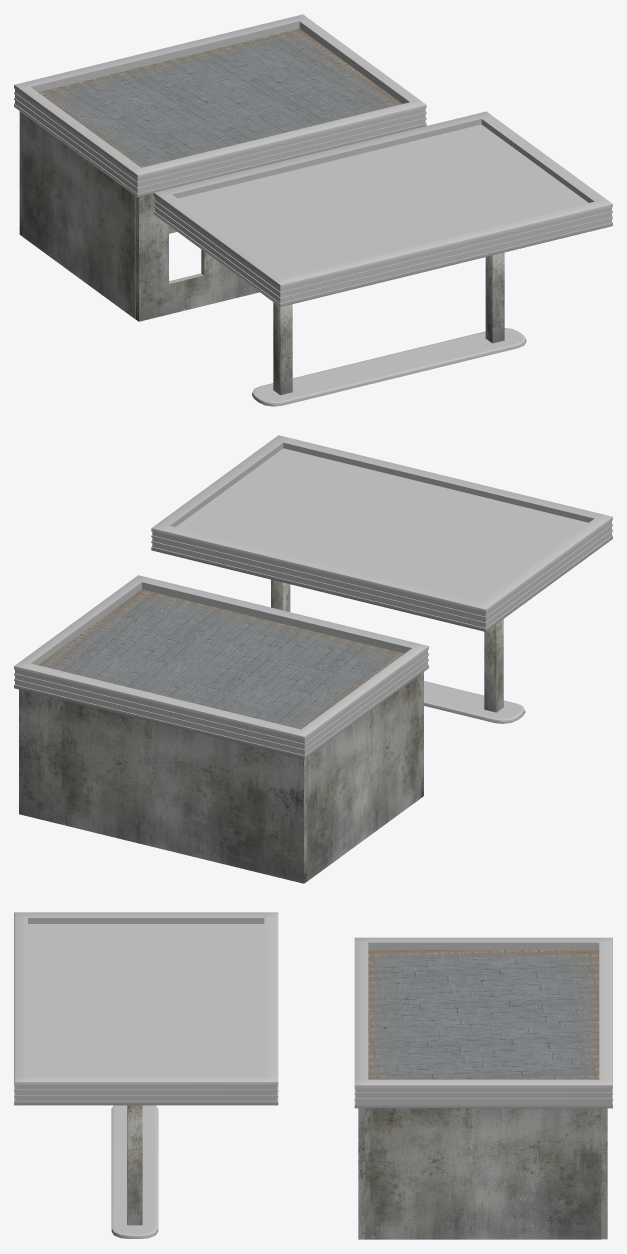
The model's file is gasStationNew.fbx.
3 renders of one model, top to bottom at view 1: azimuth 30°, elevation 25°; view 2: azimuth 150°, elevation 25°; view 3: azimuth 270°, elevation 25°, orthographic. The views are drawn at different scales.
Visible parts, largest first — view 1: Roof1, bitumen, Roof2, SmallWallDown2, sideWalkEdge, FrontWallDown, SmallWallUp2; view 2: Roof1, BigWallDown, bitumen, Roof2, SmallWallDown2, sideWalkEdge, BigWallUp; view 3: Roof1, bitumen, SmallWallDown, Roof2, sideWalkEdge, SmallWallUp, BigWallDown, FrontWallDown.
Boxes of the visible parts, x1=… form: Roof1: x1=153, y1=111, x2=612, y2=306; bitumen: x1=38, y1=28, x2=401, y2=167; Roof2: x1=14, y1=14, x2=426, y2=197; SmallWallDown2: x1=22, y1=118, x2=135, y2=319; sideWalkEdge: x1=252, y1=252, x2=526, y2=406; FrontWallDown: x1=136, y1=199, x2=259, y2=321; SmallWallUp2: x1=22, y1=113, x2=135, y2=200; Roof1: x1=151, y1=435, x2=612, y2=631; BigWallDown: x1=19, y1=694, x2=306, y2=883; bitumen: x1=38, y1=589, x2=404, y2=729; Roof2: x1=14, y1=575, x2=428, y2=758; SmallWallDown2: x1=307, y1=679, x2=420, y2=881; sideWalkEdge: x1=271, y1=579, x2=525, y2=723; BigWallUp: x1=19, y1=689, x2=306, y2=763; Roof1: x1=14, y1=912, x2=278, y2=1105; bitumen: x1=368, y1=950, x2=599, y2=1079; SmallWallDown: x1=365, y1=1115, x2=601, y2=1239; Roof2: x1=354, y1=937, x2=612, y2=1108; sideWalkEdge: x1=111, y1=1105, x2=158, y2=1238; SmallWallUp: x1=365, y1=1108, x2=601, y2=1114; BigWallDown: x1=601, y1=1114, x2=607, y2=1239; FrontWallDown: x1=358, y1=1115, x2=364, y2=1239.
Bounding box in the file's own units: 942 × 452 × 1404.
